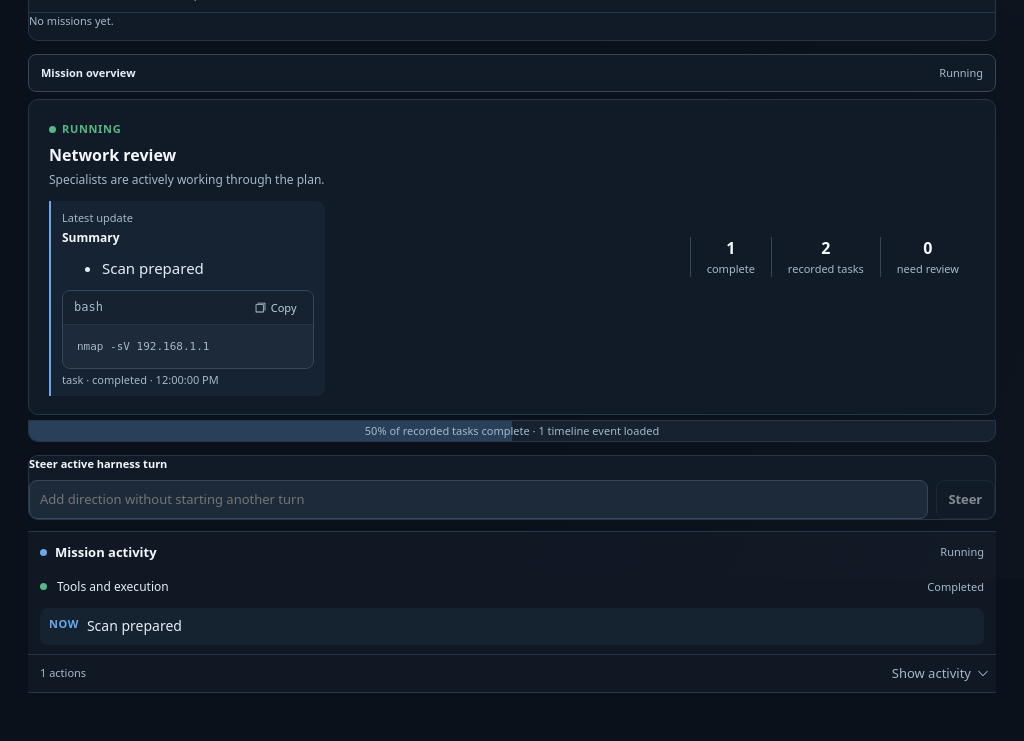
Test: mission activity › keeps mission controls visible and technical activity collapsed
(page scrolled)
Expected: the text "Specialists are actively working through the plan." is shown, [49,171,324,189]
Expected: the element named "50% of recorded mission tasks complete" is shown, [28,420,996,442]
Click the button "Show activity". click: (938, 673)
box: [884,658,992,688]
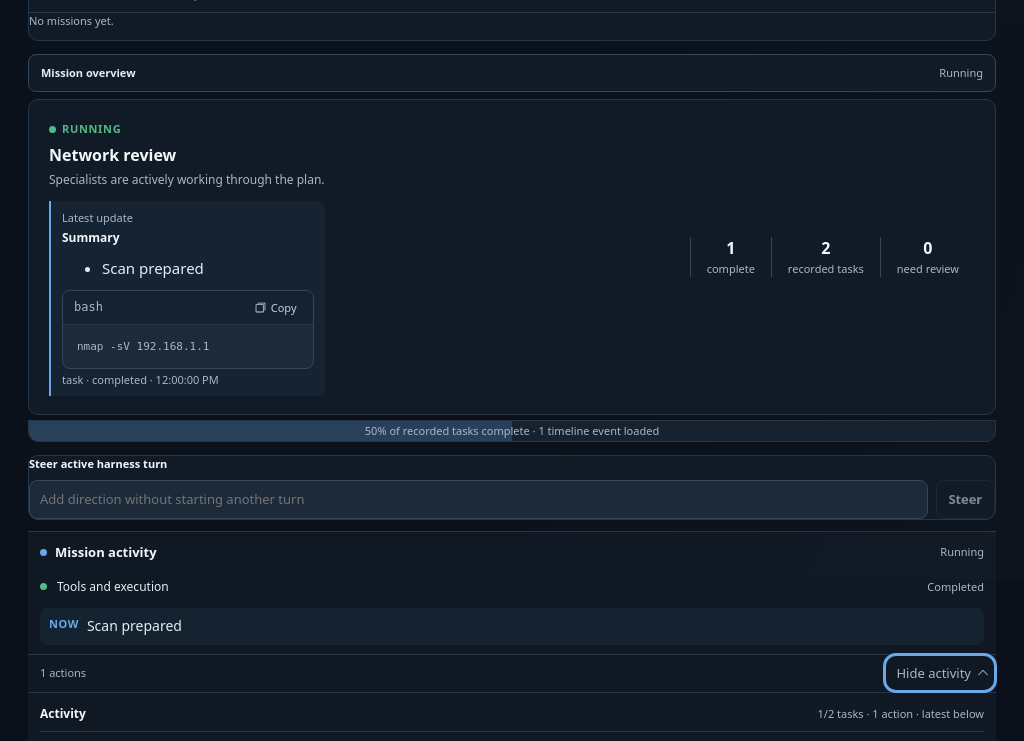
Now the text "1/2 tasks · 1 action · latest below" is shown, box [818,706,984,722]
